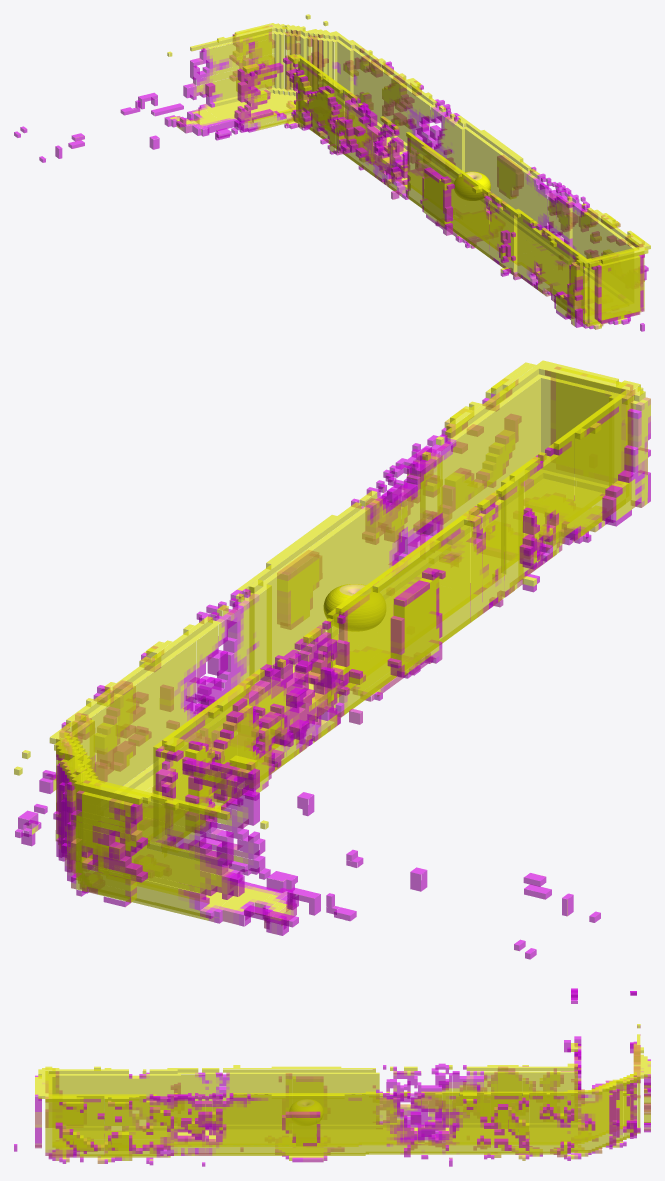
The model's file is test_chamber_spec_hard.glb.
3 views of the same model, one above another, from view 1: azimuth 30°, elevation 25°; view 2: azimuth 150°, elevation 25°; view 3: azimuth 270°, elevation 25° (orthographic). The views are drawn at different scales.
Visible parts, largest first — view 1: chunk:0.018, chunk:2.013, chunk:1.014, chunk:3.013, Emitter-0 2232.000000MHz 2.000000w.018; view 2: chunk:0.018, chunk:2.013, chunk:3.013, chunk:1.014, Emitter-0 2232.000000MHz 2.000000w.018; view 3: chunk:0.018, chunk:2.013, chunk:3.013, chunk:1.014, Emitter-0 2232.000000MHz 2.000000w.018.
Part boxes in pixels (x1,y1,x2,y2): chunk:0.018: [14, 23, 527, 265]; chunk:2.013: [305, 14, 563, 251]; chunk:1.014: [497, 198, 620, 329]; chunk:3.013: [530, 184, 650, 331]; Emitter-0 2232.000000MHz 2.000000w.018: [454, 171, 490, 200]; chunk:0.018: [59, 495, 600, 959]; chunk:2.013: [14, 469, 417, 861]; chunk:3.013: [383, 360, 593, 584]; chunk:1.014: [442, 372, 650, 608]; Emitter-0 2232.000000MHz 2.000000w.018: [323, 584, 385, 631]; chunk:0.018: [205, 988, 650, 1151]; chunk:2.013: [205, 1082, 647, 1166]; chunk:3.013: [14, 1082, 205, 1166]; chunk:1.014: [35, 1066, 205, 1151]; Emitter-0 2232.000000MHz 2.000000w.018: [289, 1099, 323, 1122].
Size of the model in its own units: 10.2 by 2.2 by 18.3.
5 materials, 4 textured.
